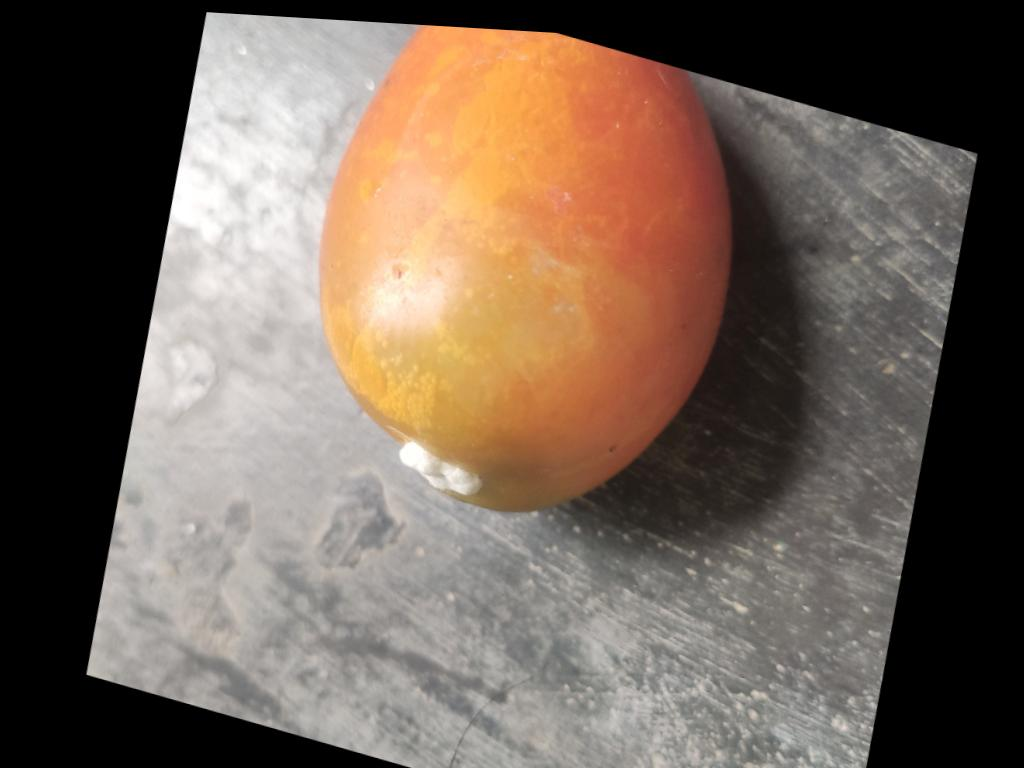rot_mold_decay: (400, 439, 483, 494)
tomato: (320, 25, 731, 511)
